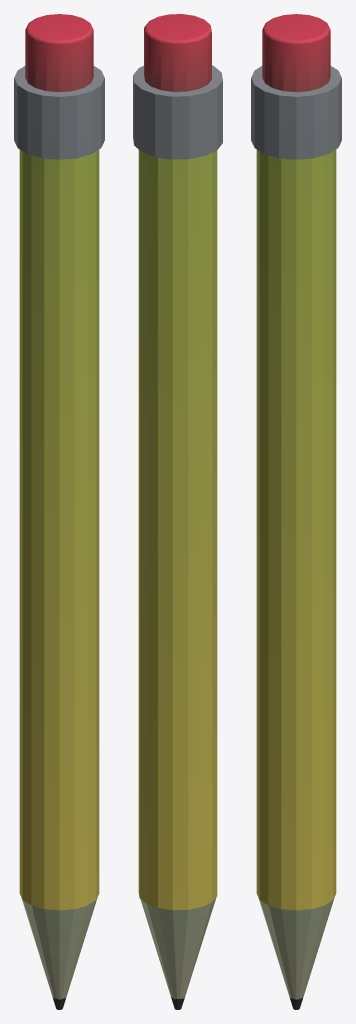
3 renders of one model, left to right at view 1: azimuth 90°, elevation 25°; view 2: azimuth 150°, elevation 25°; view 3: azimuth 270°, elevation 25°, orthographic.
Visible parts, largest first — view 1: barrel, collar, eraser, wood; view 2: barrel, collar, eraser, wood; view 3: barrel, collar, eraser, wood.
Boxes of the visible parts, x1,y1,x2,y2 form: barrel: [19, 149, 99, 910]; collar: [14, 66, 104, 159]; eraser: [25, 14, 93, 92]; wood: [21, 897, 97, 999]; barrel: [138, 150, 217, 910]; collar: [133, 65, 222, 159]; eraser: [144, 14, 211, 91]; wood: [140, 897, 216, 999]; barrel: [256, 149, 336, 910]; collar: [251, 66, 341, 159]; eraser: [262, 14, 330, 92]; wood: [258, 897, 334, 999].
Size of the model in its own units: 0.0159 by 0.1903 by 0.0159.
